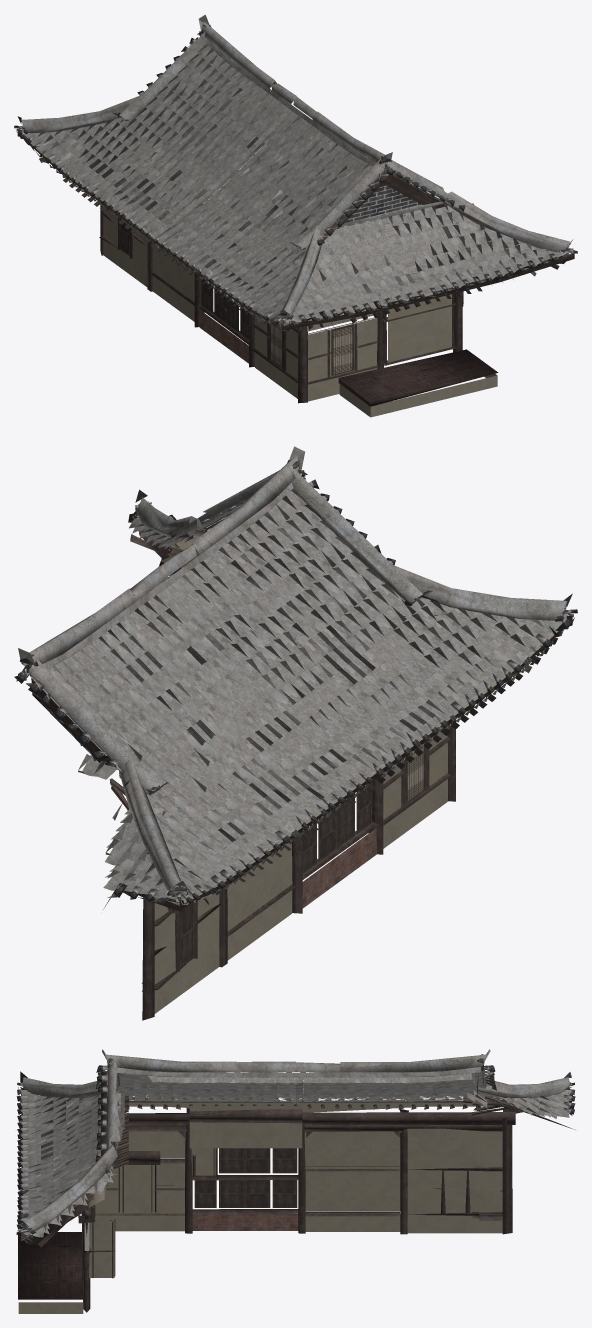
The model's file is gIENGLow!G2.fbx.
3 renders of one model, top to bottom at view 1: azimuth 30°, elevation 25°; view 2: azimuth 150°, elevation 25°; view 3: azimuth 270°, elevation 25°, orthographic. The views are drawn at different scales.
Parts seen in each view (by area): view 1: Sarangchae; view 2: Sarangchae; view 3: Sarangchae.
Part boxes in pixels (x1,y1,x2,y2): Sarangchae: (14, 14, 577, 417); Sarangchae: (14, 446, 577, 1020); Sarangchae: (16, 1049, 575, 1313).
Bounding box in the file's own units: 1203 × 852 × 1892.
